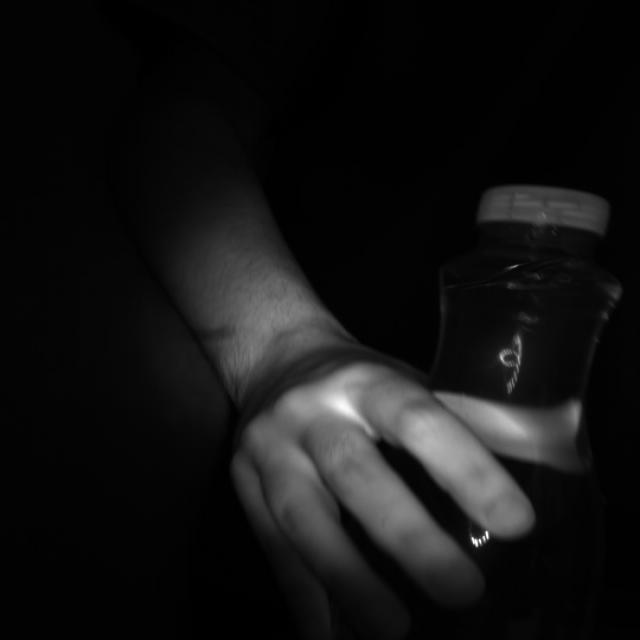Good: (474, 182, 609, 235)
